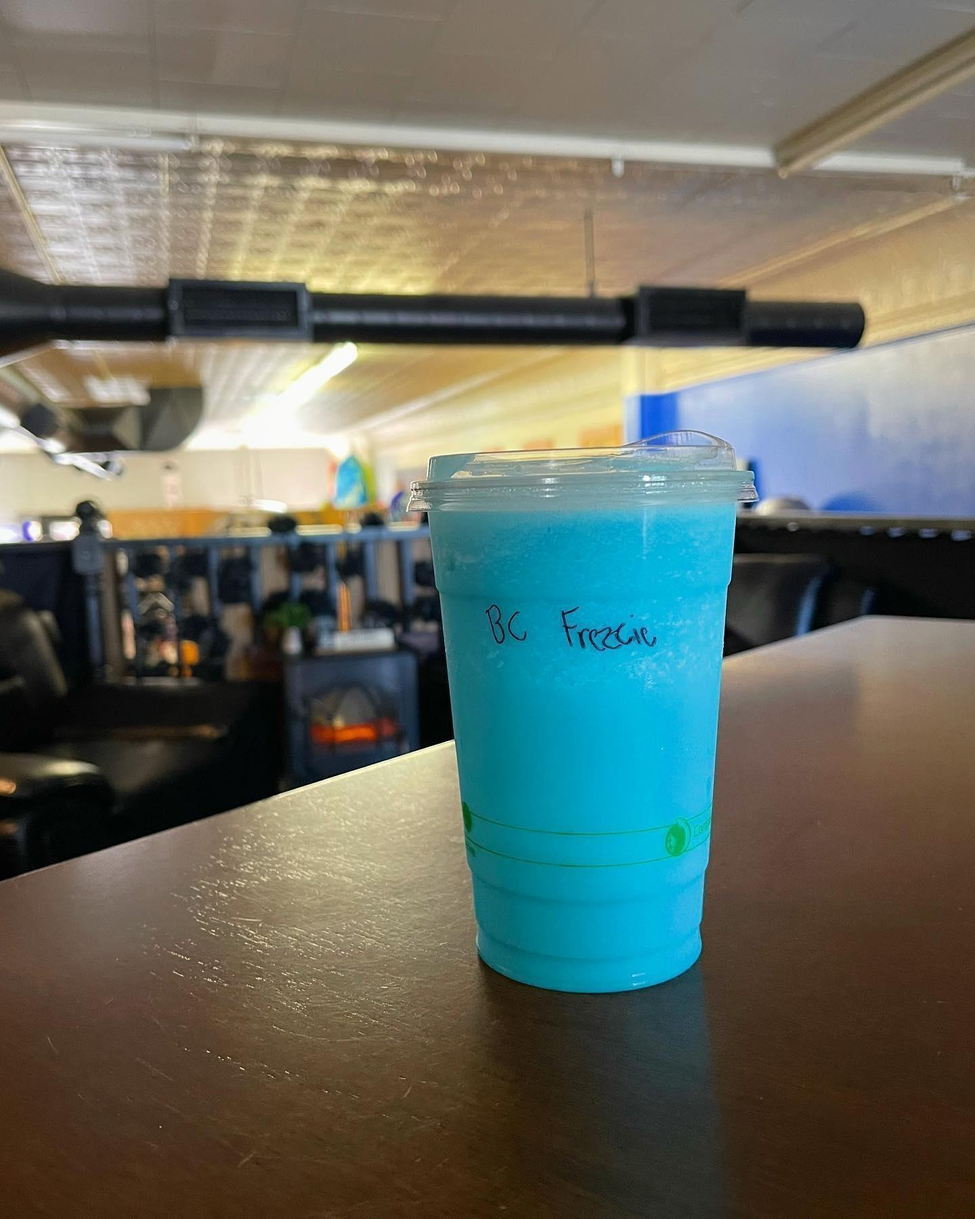cup-disposable: (414, 436, 760, 1000)
